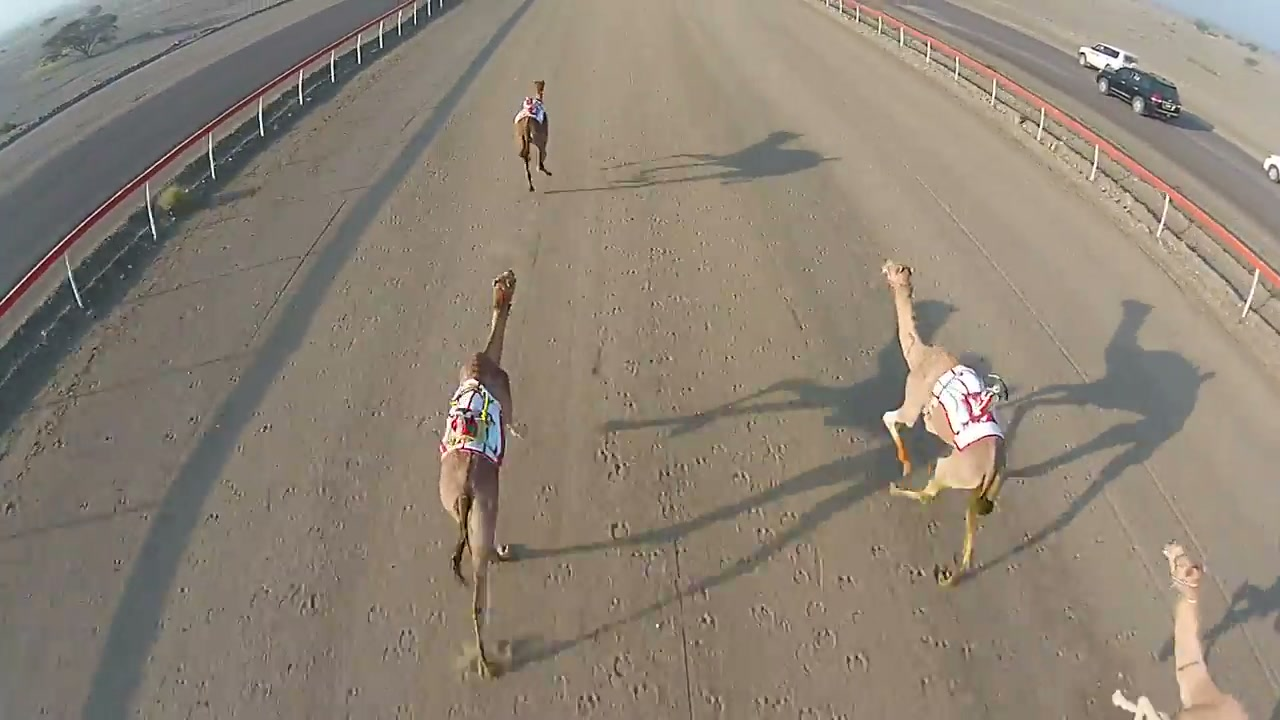animal_foot_print: (584, 191, 988, 717), (84, 266, 428, 693)
